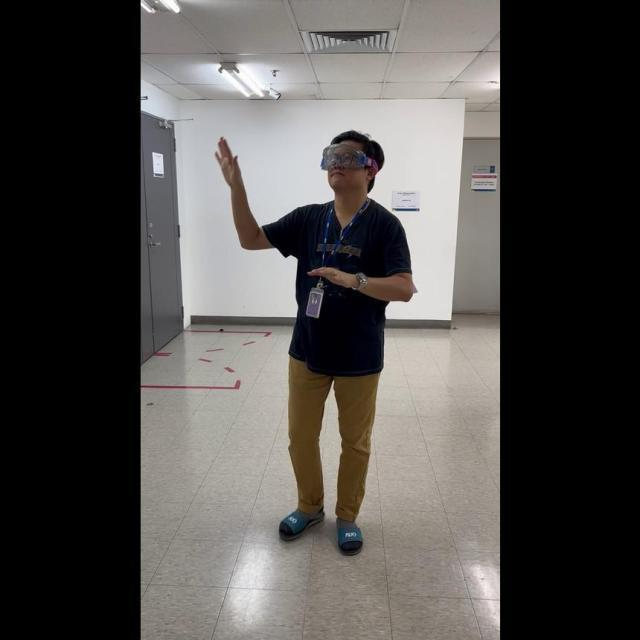bare_hand: (213, 130, 244, 194), (307, 259, 362, 290)
